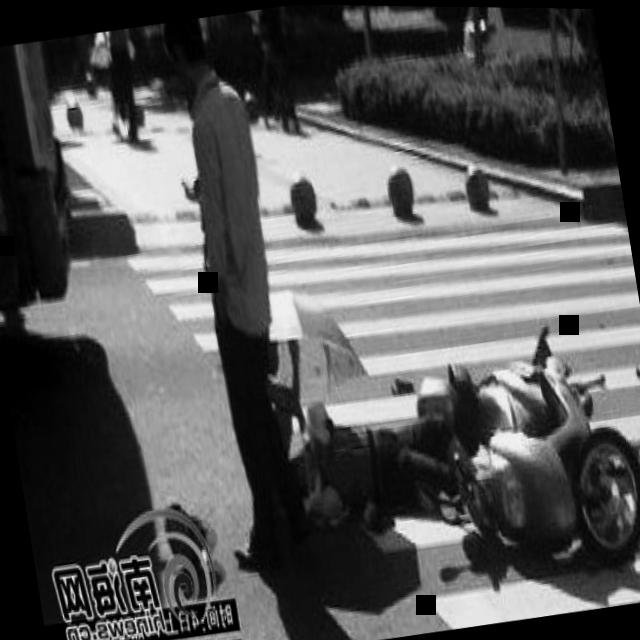Fall-Detected: (271, 350, 487, 547)
